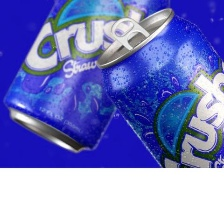can: (1, 0, 171, 156), (94, 6, 223, 167)
